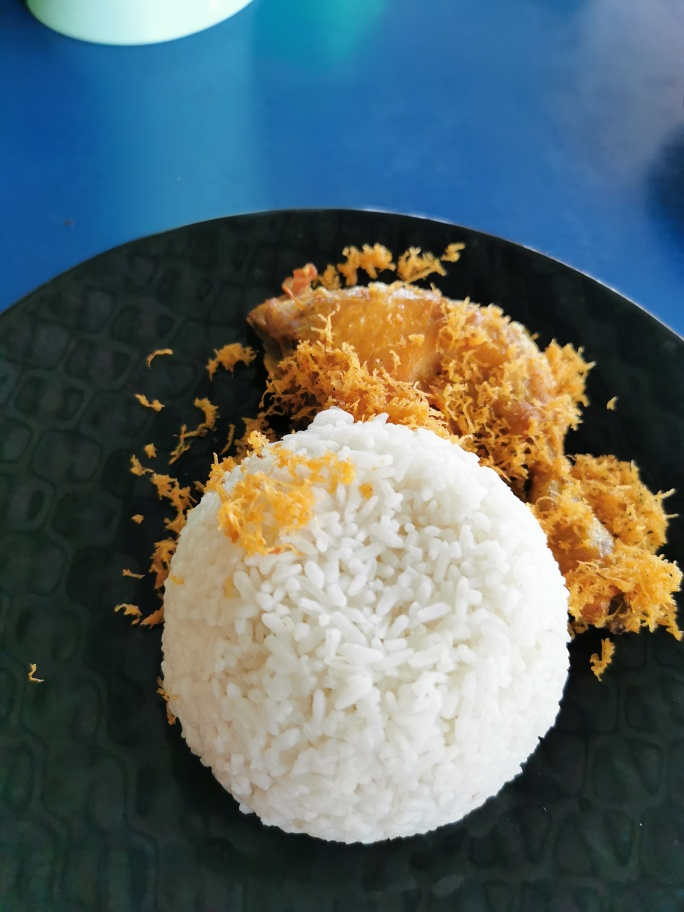ayam goreng: (239, 247, 668, 648)
nasi putih: (154, 426, 578, 846)
